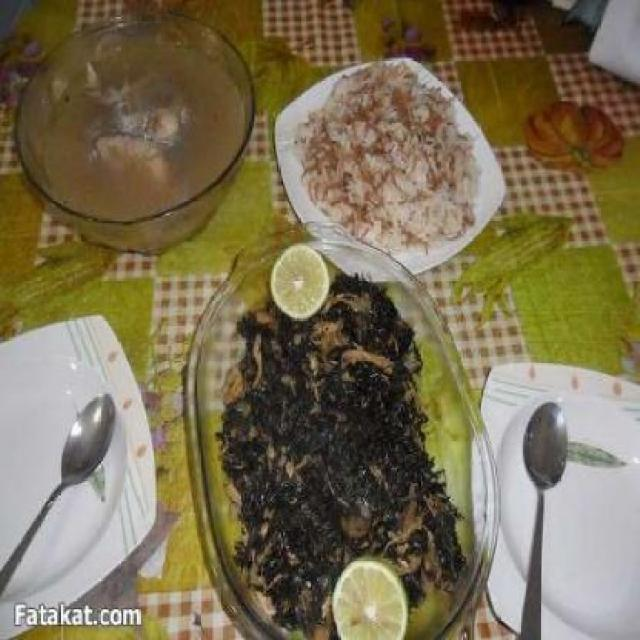fried rice: (288, 53, 480, 258)
molokhia: (209, 263, 474, 637)
